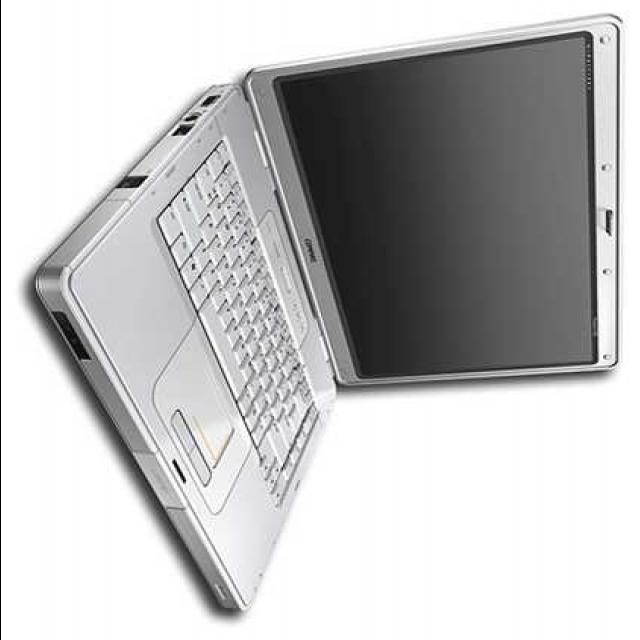laptop: (48, 34, 632, 632)
